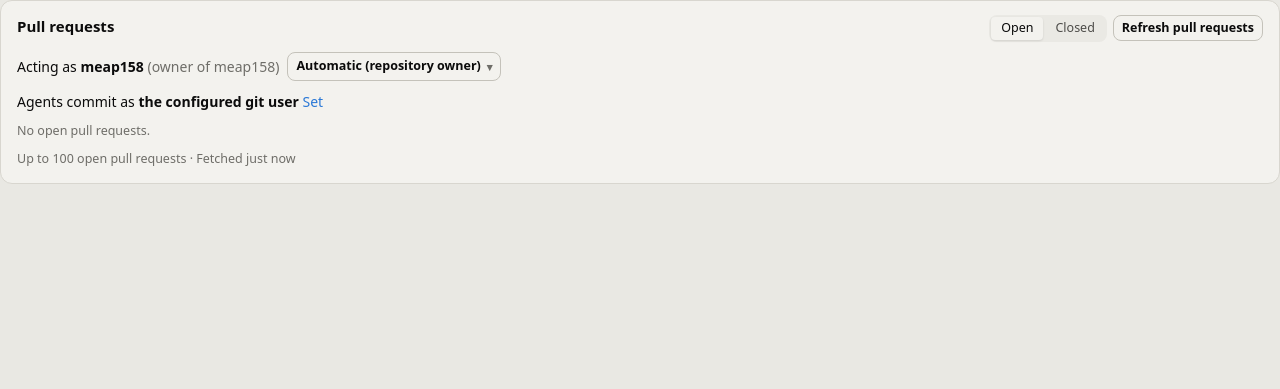
Test case: lists closed pull requests with reopen and restore branch
Expected: the text "No open pull requests." is shown, [17,122,150,138]
Click the button "Closed".
click(1075, 28)  # box [1045,17,1105,40]
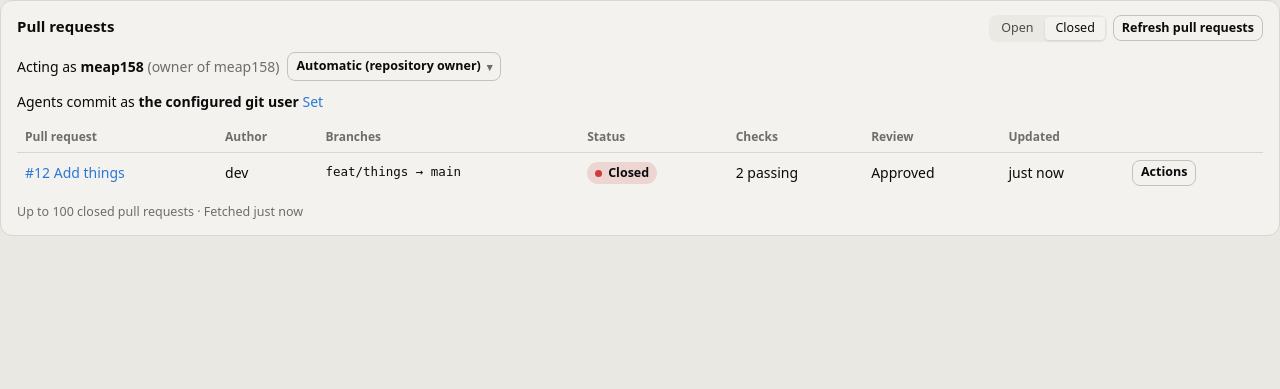
Click the button with aria-label "Actions for #12".
click(1164, 172)  # box [1132,160,1196,186]
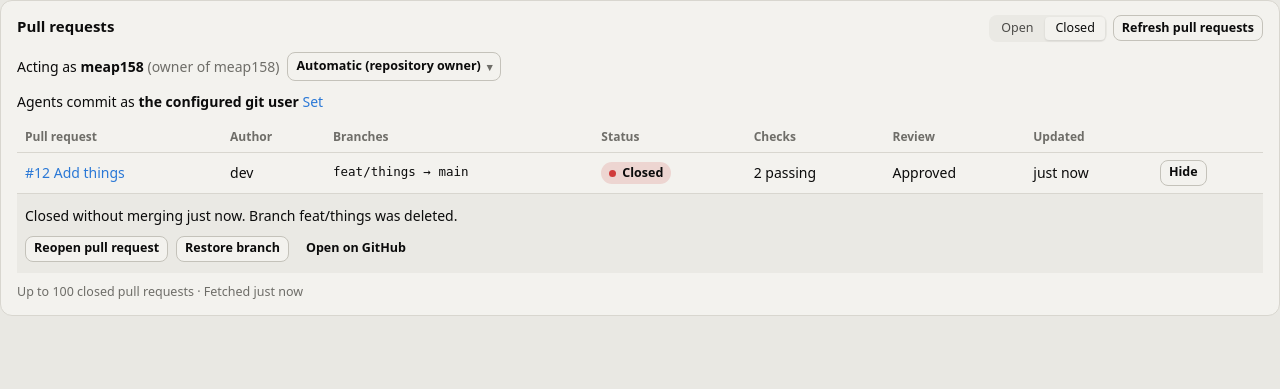
Now the button "Reopen pull request" is shown, box [25,236,168,262]
Click the button "Restore branch".
click(232, 248)  # box [176,236,289,262]
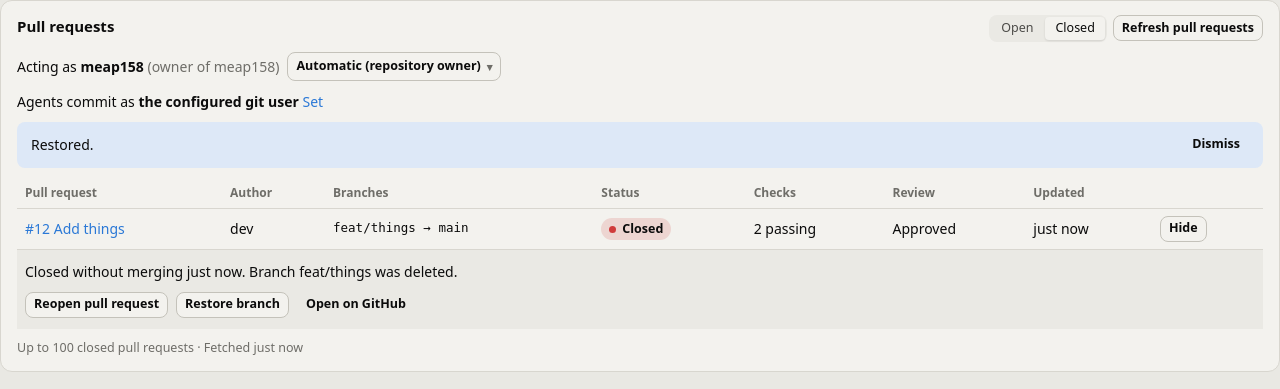
Now the text "Restored." is shown, box [31,134,94,155]
